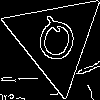Q: (30, 14, 81, 73)
